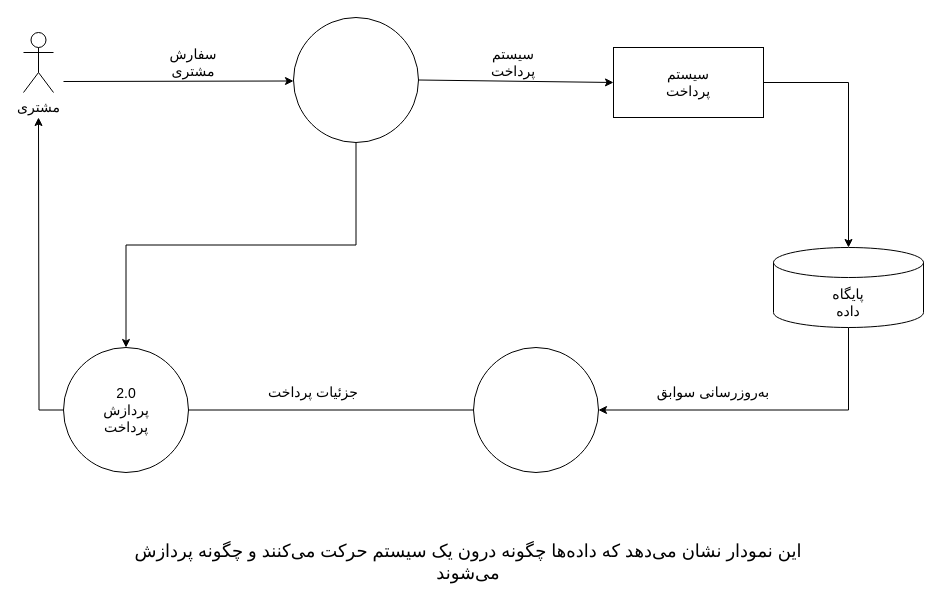
Some shapes in this 941 by 601 pixel diagram are drawn without their labels. The shapes that lost their labels are listed below. From the top down, each one's box as (x1, y1, x2, y2) in pixels, then its label:
(292, 16, 418, 142): 1.0 اعتبارسنجی سفارش
(472, 346, 598, 472): 3.0 به‌روزرسانی موجودی
